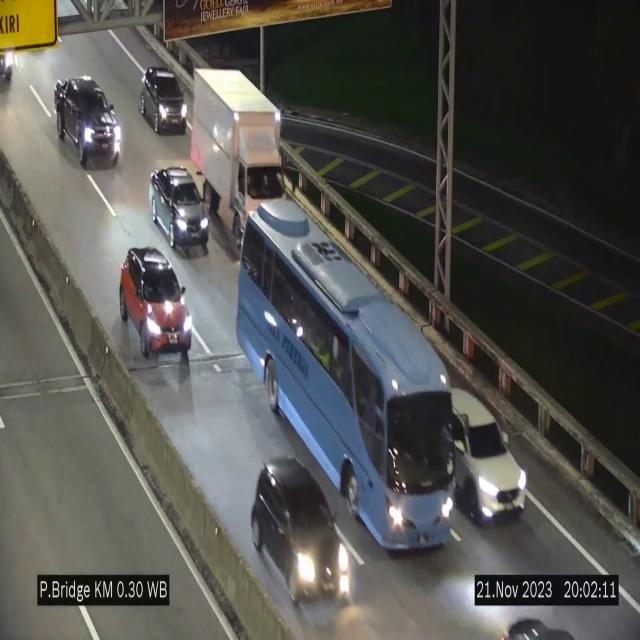Bus: (233, 198, 458, 562)
Car: (250, 459, 347, 608), (455, 384, 526, 525), (114, 243, 191, 360), (55, 77, 122, 168), (149, 162, 208, 252), (138, 65, 190, 136)
Truck: (192, 67, 288, 239)
